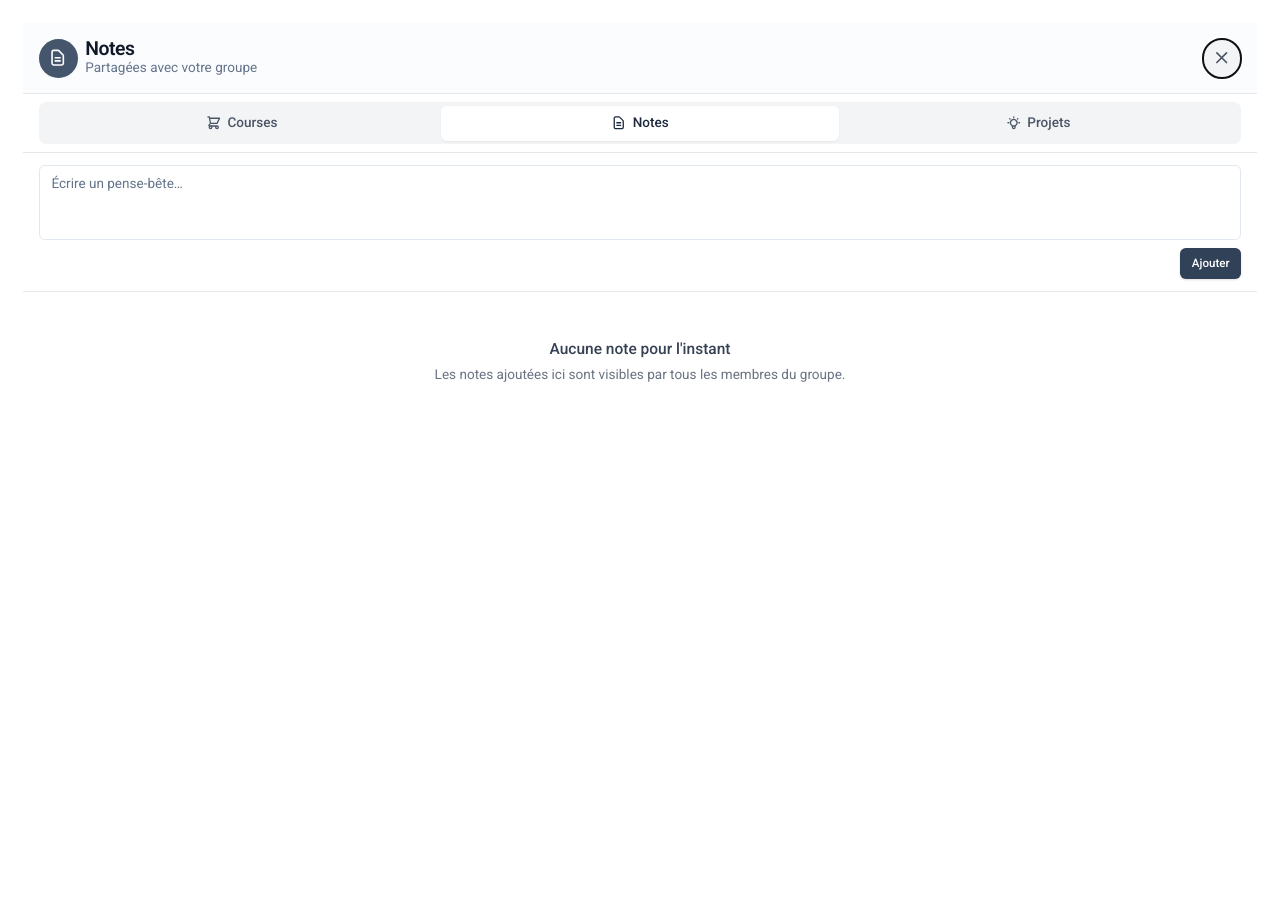
NotesDrawer — ajout › garde le texte et affiche une erreur si l’enregistrement échoue
The width and height of the screenshot is (1280, 900).
Type "Courses" into the text box named "Contenu de la note" at (640, 203), box [39,165,1241,240]
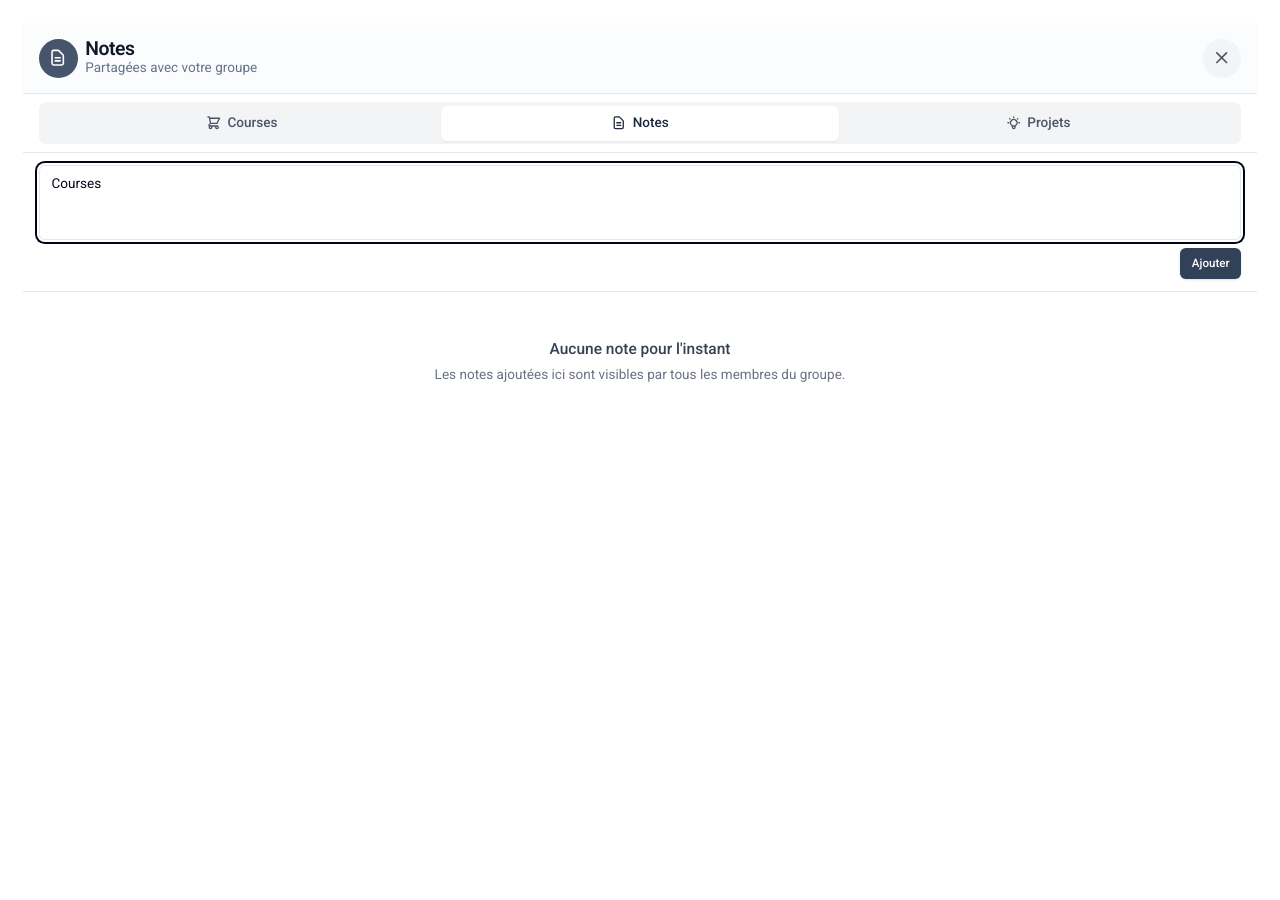
Click the button "Ajouter" at (1211, 264), box [1180,248,1241,279]
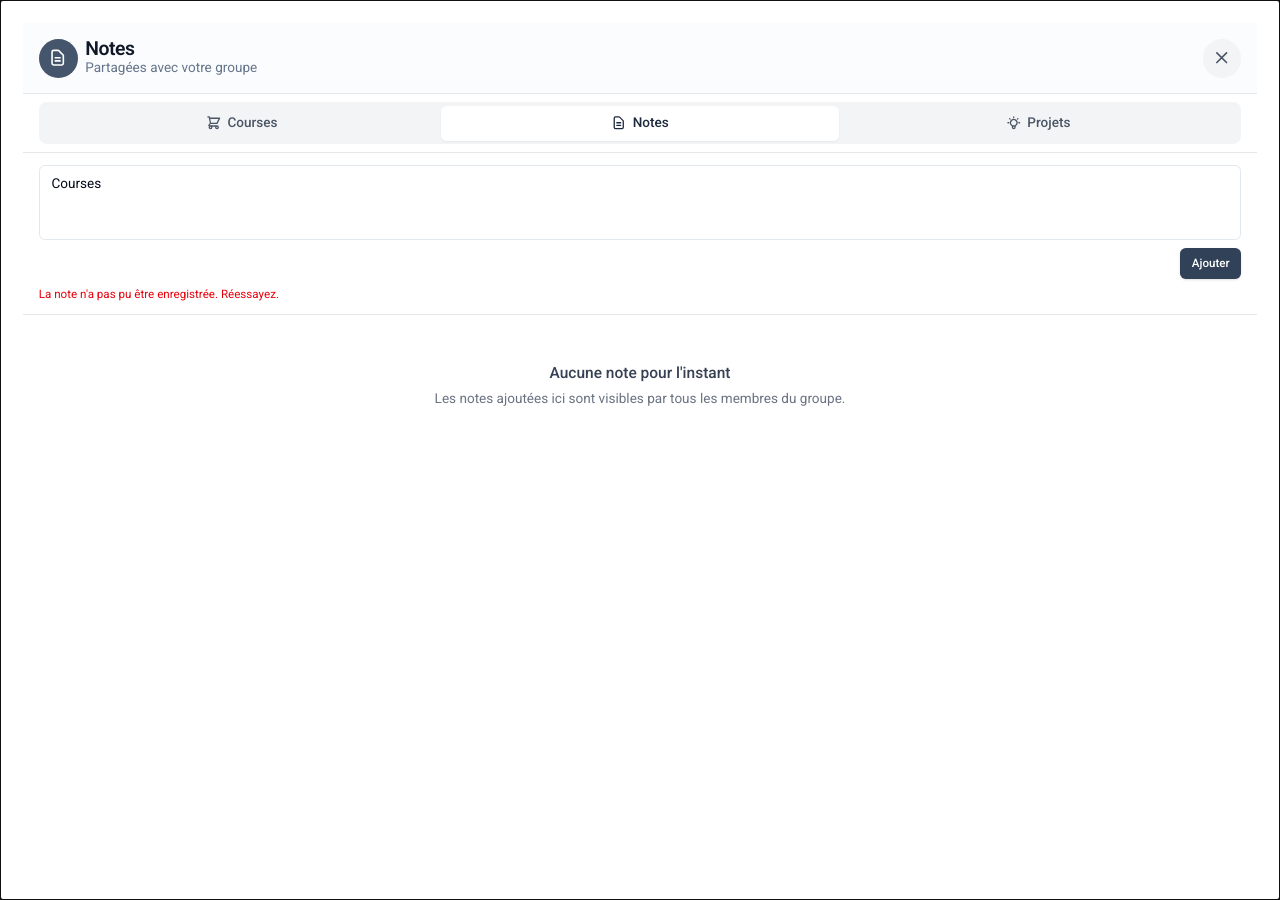
Result: the message shows "n'a pas pu être enregistrée" at [39,287,279,301]
